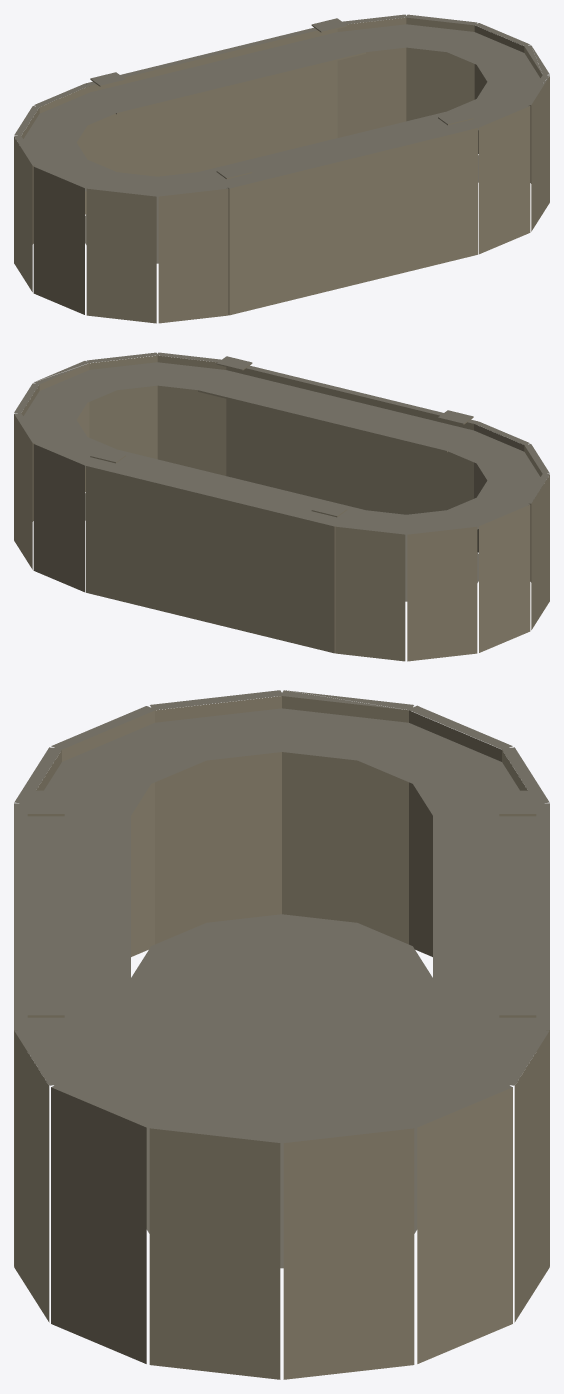
Rendered from bw-keep.far-facades-v2.lod2.glb.
3 renders of one model, top to bottom at view 1: azimuth 30°, elevation 25°; view 2: azimuth 150°, elevation 25°; view 3: azimuth 270°, elevation 25°, orthographic. The views are drawn at different scales.
Parts seen in each view (by area): view 1: bw-keep; view 2: bw-keep; view 3: bw-keep.
Boxes of the visible parts, x1,y1,x2,y2 form: bw-keep: [14, 14, 549, 323]; bw-keep: [14, 352, 549, 661]; bw-keep: [14, 690, 549, 1379].
Bounding box in the file's own units: 110 × 28.35 × 55.
